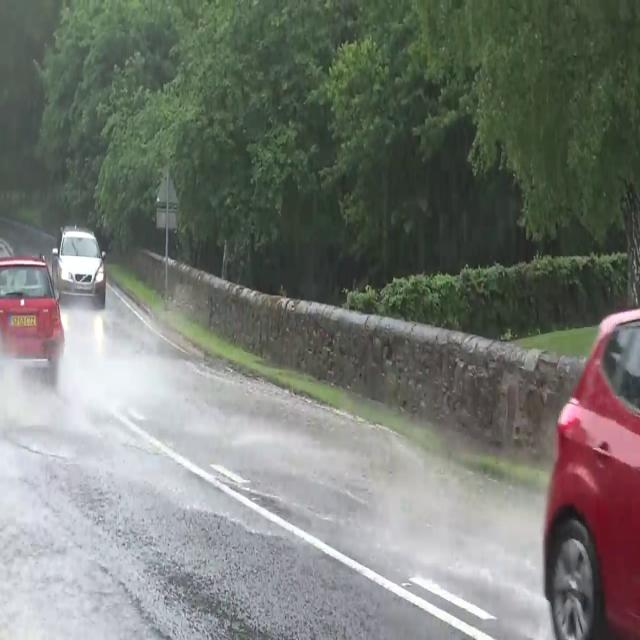license-plate-annotation: (7, 315, 42, 325)
